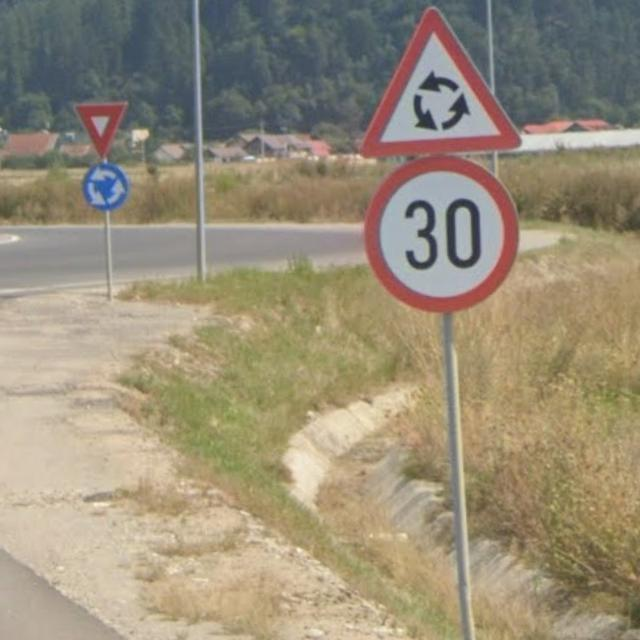forb_speed_over_30: (362, 155, 519, 311)
prio_give_way: (72, 101, 128, 160)
